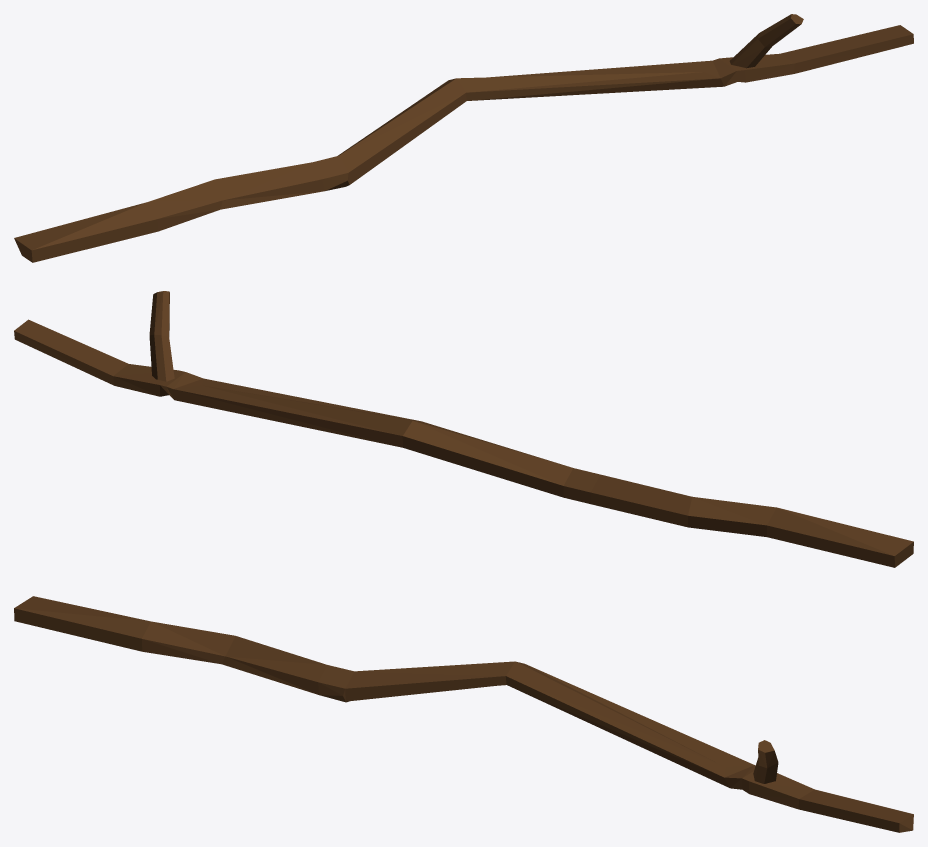
File: tree-spruce-branch-a.gltf
3 renders of one model, top to bottom at view 1: azimuth 30°, elevation 25°; view 2: azimuth 150°, elevation 25°; view 3: azimuth 330°, elevation 25°, orthographic.
Visible parts, largest first — view 1: tree-spruce-branch-a; view 2: tree-spruce-branch-a; view 3: tree-spruce-branch-a.
Boxes of the visible parts, x1,y1,x2,y2 form: tree-spruce-branch-a: [14, 14, 913, 262]; tree-spruce-branch-a: [14, 291, 913, 567]; tree-spruce-branch-a: [14, 596, 913, 832].
Size of the model in its own units: 0.0187 by 0.00164 by 0.00215.
